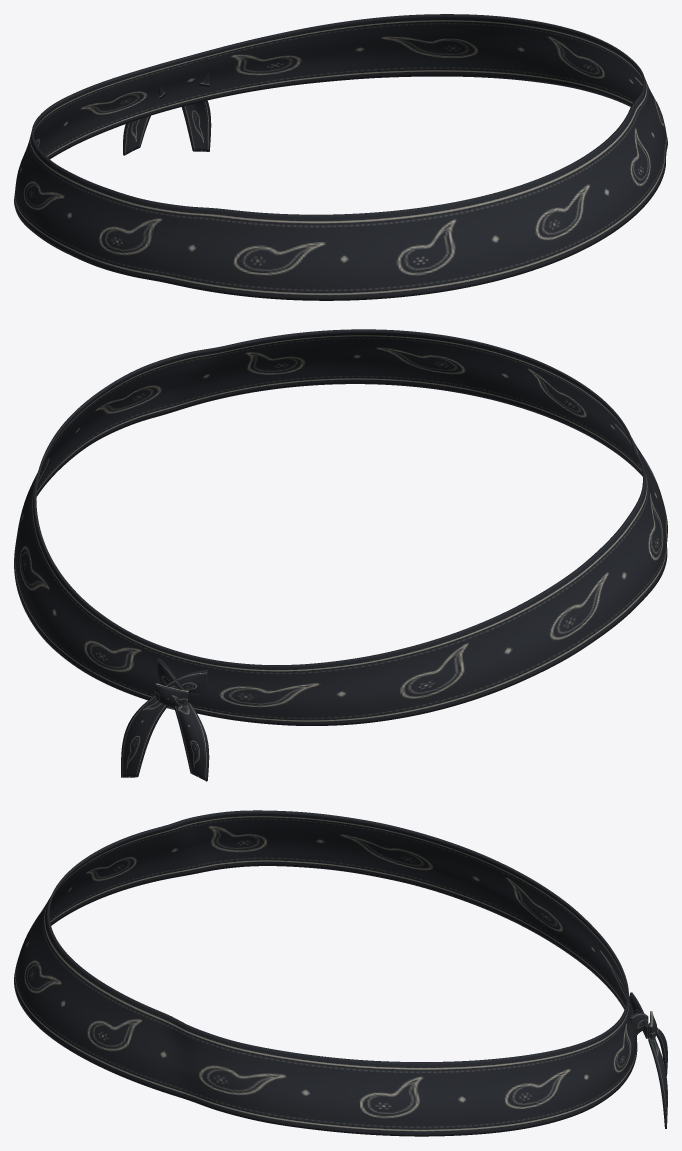
File: Masculine-buzz-bandana.glb
3 renders of one model, top to bottom at view 1: azimuth 30°, elevation 25°; view 2: azimuth 150°, elevation 25°; view 3: azimuth 270°, elevation 25°, orthographic. The views are drawn at different scales.
Parts seen in each view (by area): view 1: Bandana / folded forehead wrap, Bandana / falling tie 1, Bandana / falling tie -1; view 2: Bandana / folded forehead wrap, Bandana / falling tie 1, Bandana / falling tie -1; view 3: Bandana / folded forehead wrap, Bandana / falling tie 1.
Boxes of the visible parts, x1,y1,x2,y2 form: Bandana / folded forehead wrap: [14, 14, 667, 300]; Bandana / falling tie 1: [181, 100, 211, 151]; Bandana / falling tie -1: [123, 115, 150, 155]; Bandana / folded forehead wrap: [14, 329, 667, 725]; Bandana / falling tie 1: [121, 695, 167, 777]; Bandana / falling tie -1: [173, 702, 209, 781]; Bandana / folded forehead wrap: [14, 810, 637, 1136]; Bandana / falling tie 1: [648, 1024, 667, 1128].
Size of the model in its own units: 0.7763 by 0.2664 by 0.8055.
1 material, 1 textured.
